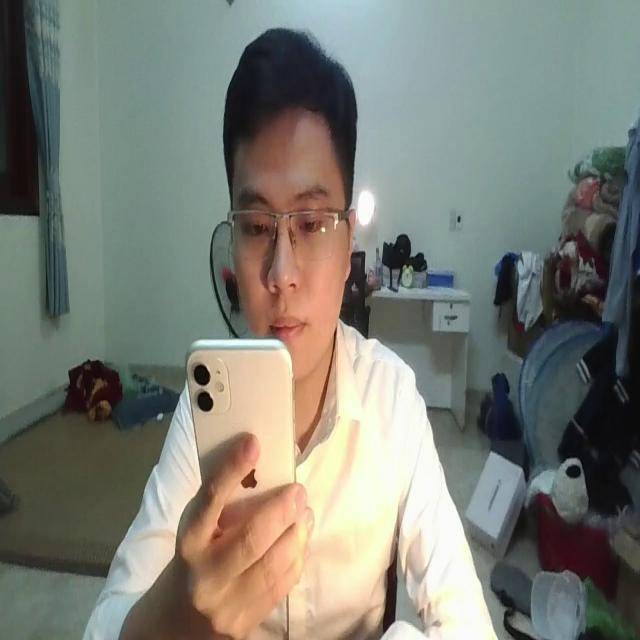phone: (186, 330, 297, 530)
student: (82, 14, 496, 640)
